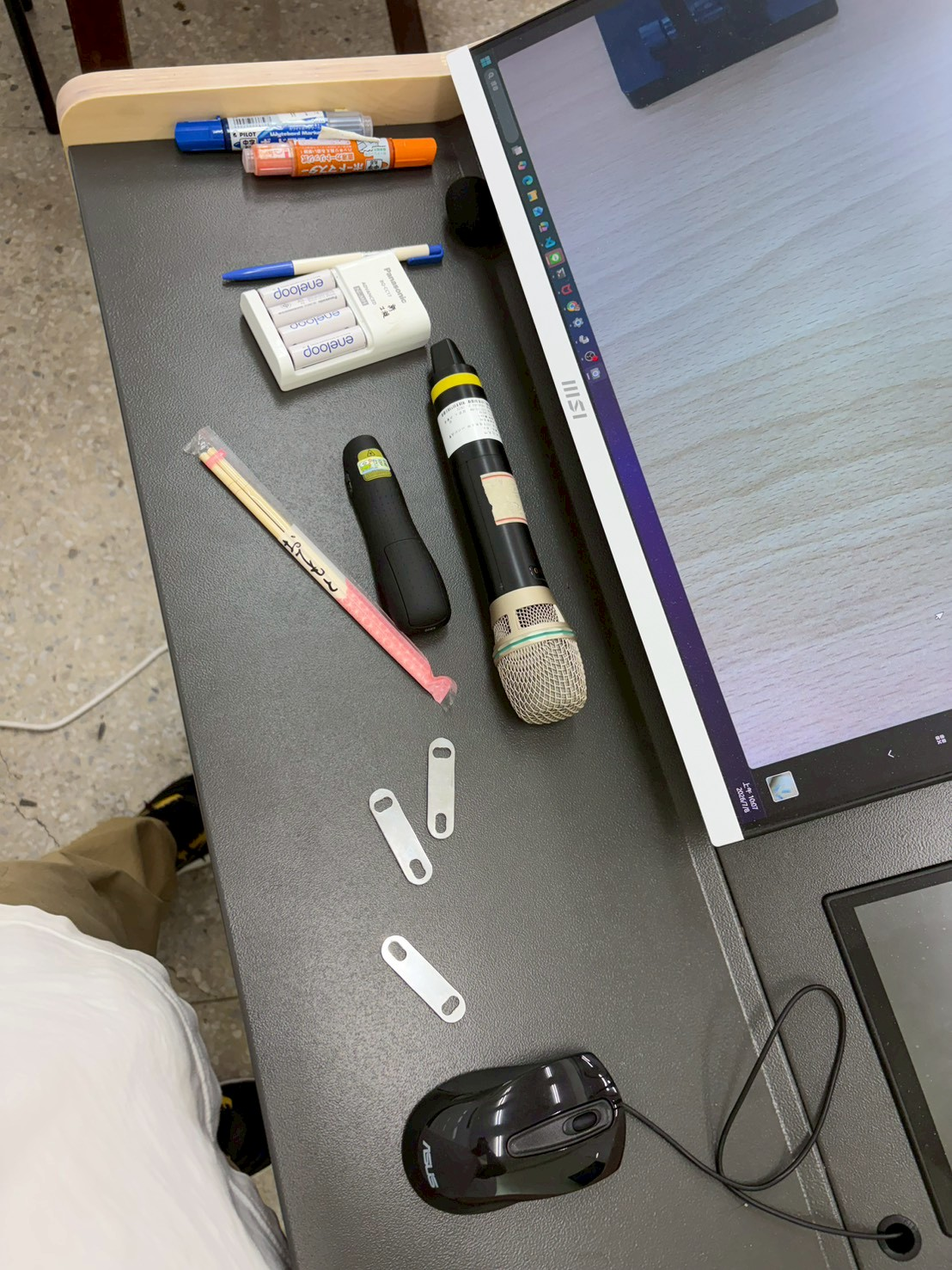Fe: (373, 919, 473, 1027), (359, 790, 434, 884), (419, 732, 465, 845)
